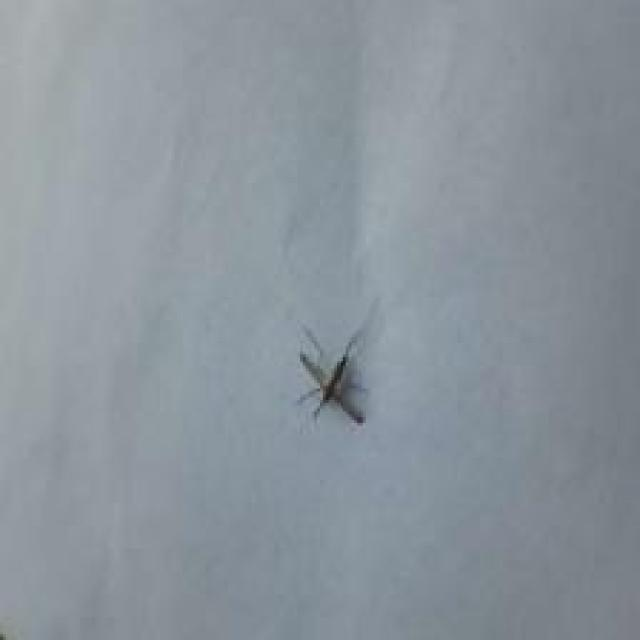Culex: (294, 296, 383, 427)
